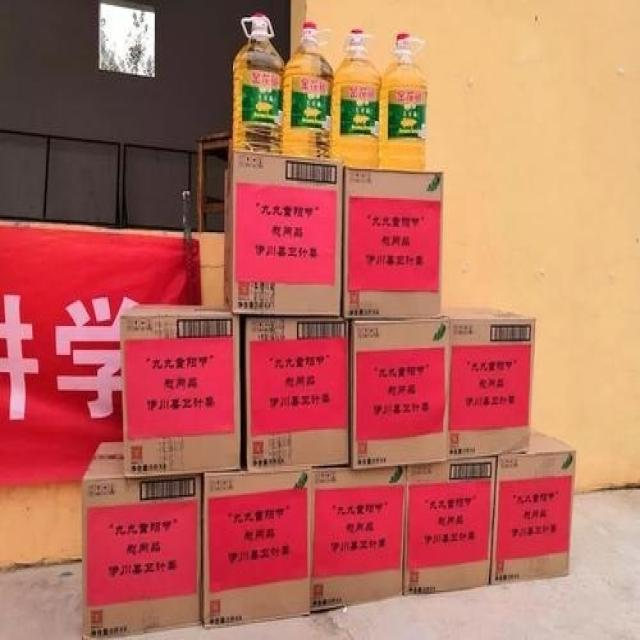box: (83, 442, 201, 638), (122, 304, 241, 474), (223, 152, 343, 314), (204, 471, 312, 626), (247, 319, 349, 471), (343, 167, 442, 317), (351, 319, 448, 471), (311, 466, 407, 611), (445, 311, 535, 459), (492, 428, 575, 585), (403, 457, 495, 596)
